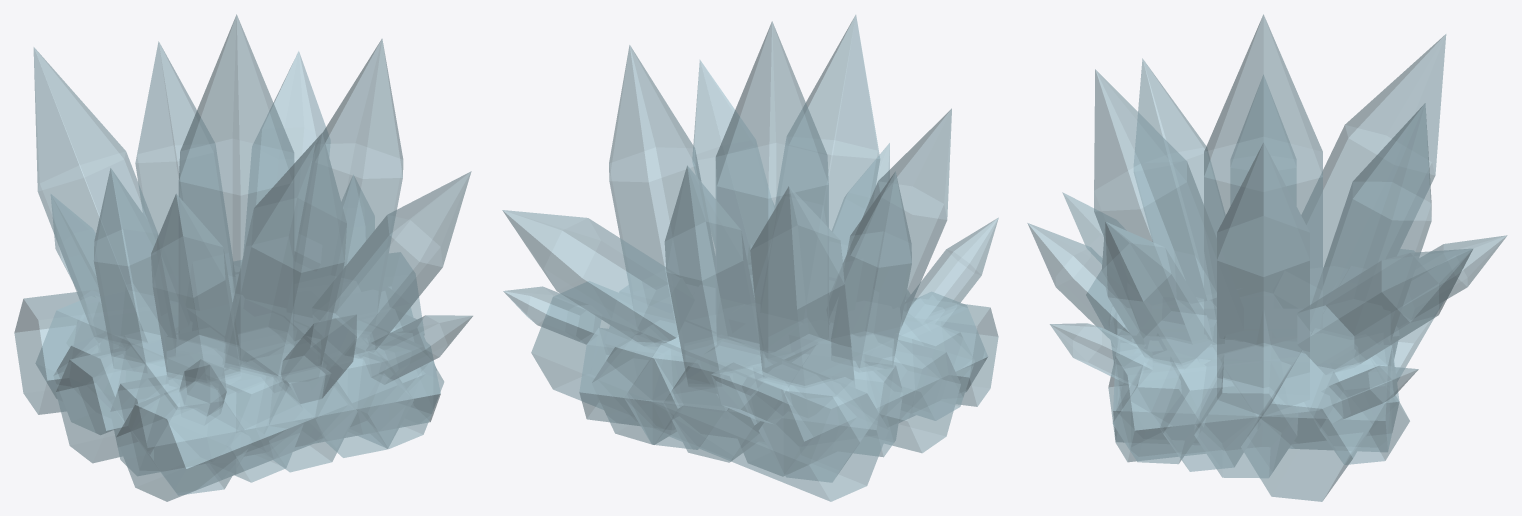
Rendered from Кварц.fbx.
3 renders of one model, left to right at view 1: azimuth 30°, elevation 25°; view 2: azimuth 150°, elevation 25°; view 3: azimuth 270°, elevation 25°, orthographic. The views are drawn at different scales.
Visible parts, largest first — view 1: КристаллТитана.002, КристаллТитана.001, КристаллТитана.007, КристаллТитана.004, КристаллТитана.015, КристаллТитана.008, КристаллТитана.003, КристаллТитана.006, КристаллТитана.011, КристаллТитана.025, КристаллТитана.012, КристаллТитана.009 (+12 smaller); view 2: КристаллТитана.016, КристаллТитана.002, КристаллТитана.004, КристаллТитана.001, КристаллТитана.003, КристаллТитана.007, КристаллТитана.005, КристаллТитана.006, КристаллТитана.025, КристаллТитана.011, КристаллТитана.017, КристаллТитана.008 (+11 smaller); view 3: КристаллТитана.002, КристаллТитана.004, КристаллТитана.007, КристаллТитана.001, КристаллТитана.016, КристаллТитана.003, КристаллТитана.005, КристаллТитана.006, КристаллТитана.010, КристаллТитана.008, КристаллТитана.014, КристаллТитана.015 (+9 smaller).
Boxes of the visible parts, bbox=[...] form: КристаллТитана.002: bbox=[178, 14, 294, 359]; КристаллТитана.001: bbox=[33, 47, 178, 351]; КристаллТитана.007: bbox=[225, 133, 346, 378]; КристаллТитана.004: bbox=[294, 39, 403, 311]; КристаллТитана.015: bbox=[116, 310, 436, 501]; КристаллТитана.008: bbox=[312, 171, 471, 358]; КристаллТитана.003: bbox=[135, 41, 235, 301]; КристаллТитана.006: bbox=[151, 194, 240, 387]; КристаллТитана.011: bbox=[93, 336, 252, 495]; КристаллТитана.025: bbox=[94, 168, 176, 372]; КристаллТитана.012: bbox=[35, 301, 302, 482]; КристаллТитана.009: bbox=[241, 327, 357, 472]; КристаллТитана.016: bbox=[531, 281, 888, 501]; КристаллТитана.002: bbox=[715, 21, 828, 356]; КристаллТитана.004: bbox=[609, 45, 715, 307]; КристаллТитана.001: bbox=[750, 186, 854, 388]; КристаллТитана.003: bbox=[664, 165, 762, 393]; КристаллТитана.007: bbox=[774, 15, 880, 268]; КристаллТитана.005: bbox=[502, 210, 694, 346]; КристаллТитана.006: bbox=[829, 108, 951, 336]; КристаллТитана.025: bbox=[831, 171, 911, 372]; КристаллТитана.011: bbox=[727, 292, 987, 476]; КристаллТитана.017: bbox=[579, 328, 902, 457]; КристаллТитана.008: bbox=[692, 60, 773, 259]; КристаллТитана.002: bbox=[1204, 14, 1322, 346]; КристаллТитана.004: bbox=[1217, 143, 1309, 415]; КристаллТитана.007: bbox=[1094, 69, 1216, 344]; КристаллТитана.001: bbox=[1301, 34, 1446, 304]; КристаллТитана.016: bbox=[1241, 249, 1442, 501]; КристаллТитана.003: bbox=[1311, 103, 1431, 339]; КристаллТитана.005: bbox=[1297, 248, 1472, 374]; КристаллТитана.006: bbox=[1134, 58, 1225, 301]; КристаллТитана.010: bbox=[1108, 333, 1399, 462]; КристаллТитана.008: bbox=[1101, 222, 1212, 367]; КристаллТитана.014: bbox=[1194, 362, 1297, 477]; КристаллТитана.015: bbox=[1086, 270, 1260, 471].
Size of the model in its own units: 22.57 by 23.93 by 26.39.
